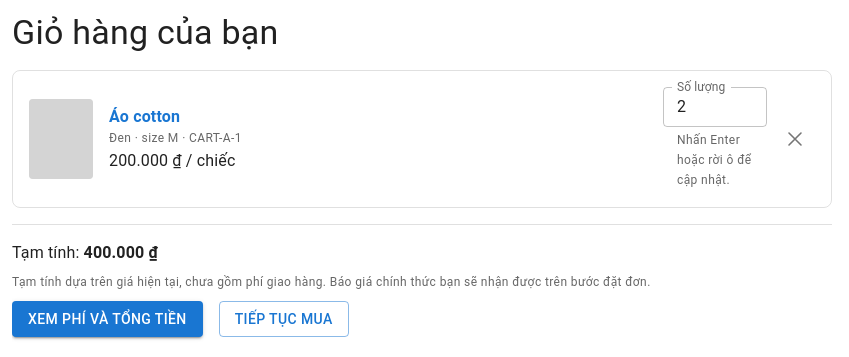
Scenario: cart page › preserves an unfinished quantity while the current cart refetches
The image size is (849, 357).
Replace the text in the field named "Số lượng của Áo cotton" with "12": (715, 107) [663,87,767,127]
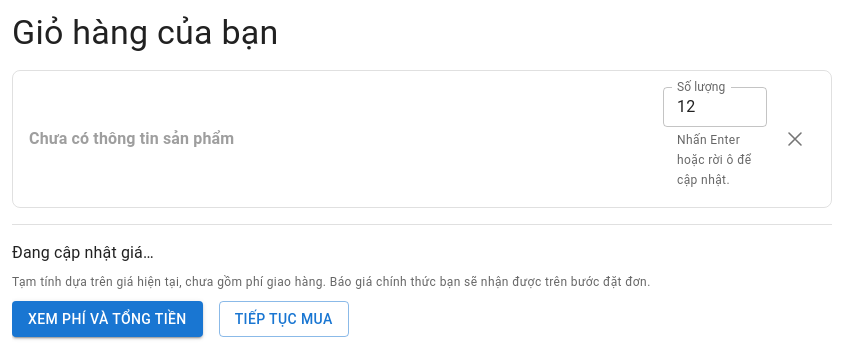
Now the text "Đang cập nhật giá…" is shown, box [12,243,154,262]
Now the text "200.000 ₫ / chiếc" is gone
